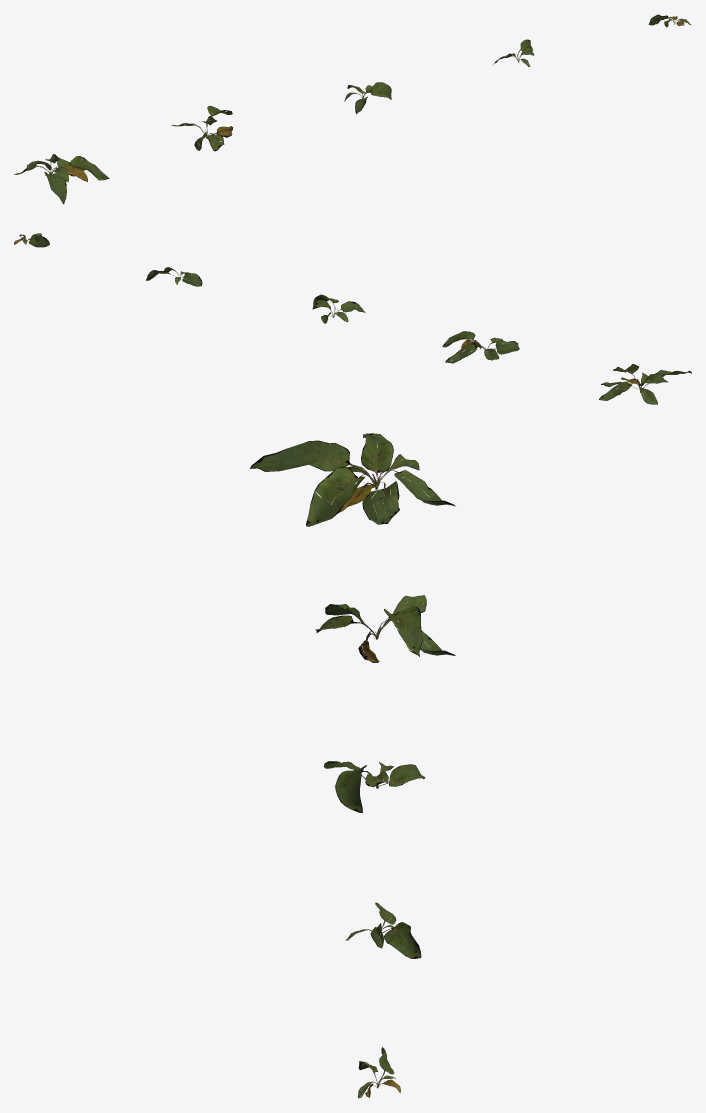
File: weed_plant_02.glb
The picture shows the model from 3 angles, top to bottom: view 1: azimuth 30°, elevation 25°; view 2: azimuth 150°, elevation 25°; view 3: azimuth 270°, elevation 25°; orthographic projection. The views are drawn at different scales.
Visible parts, largest first — view 1: weed_plant_02; view 2: weed_plant_02; view 3: weed_plant_02.
Boxes of the visible parts, x1,y1,x2,y2 form: weed_plant_02: [14, 14, 691, 204]; weed_plant_02: [14, 233, 691, 404]; weed_plant_02: [250, 433, 455, 1098].
Size of the model in its own units: 2.13 by 0.0751 by 0.291.
2 materials, 2 textured.
